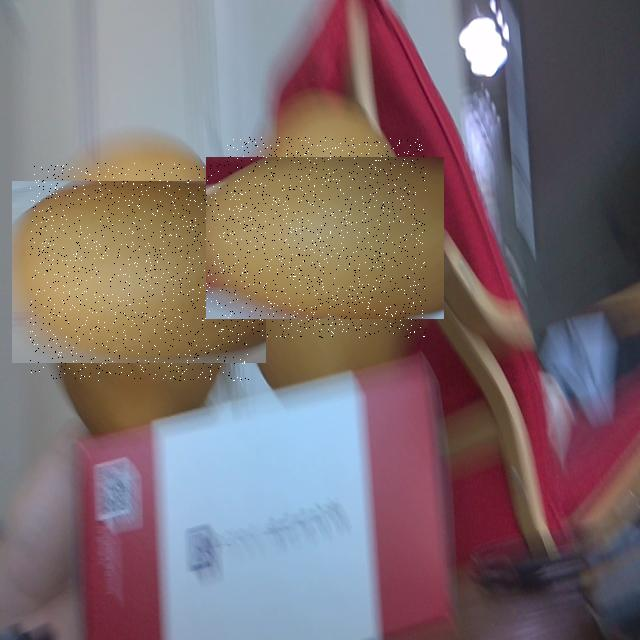pear: (30, 163, 249, 381), (225, 137, 426, 338)
